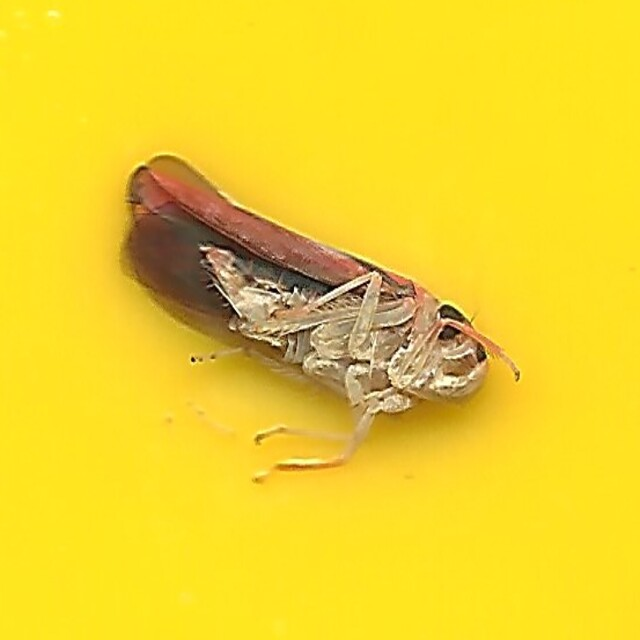Hemiptera: (116, 147, 524, 493)
